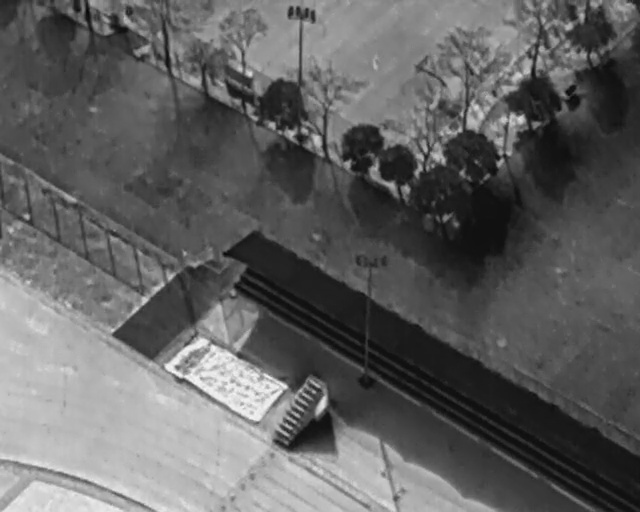Person: (372, 50, 380, 69)
